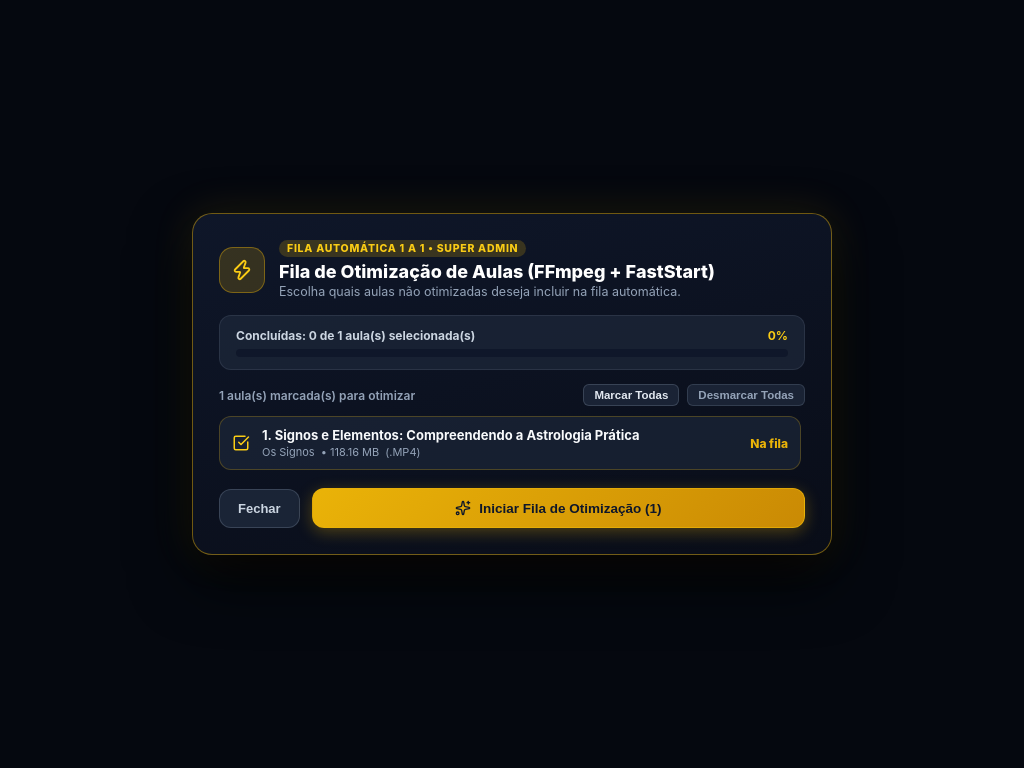
Test: SuperAdminVideoOptimizerBadge Component › executa fila sequencial no BatchVideoOptimizationModal aguardando conclusao real sem abortar precoce
Step 1. Click the button with test id "batch-video-opt-start-btn" → (558,508), box x1=312 y1=488 x2=805 y2=528
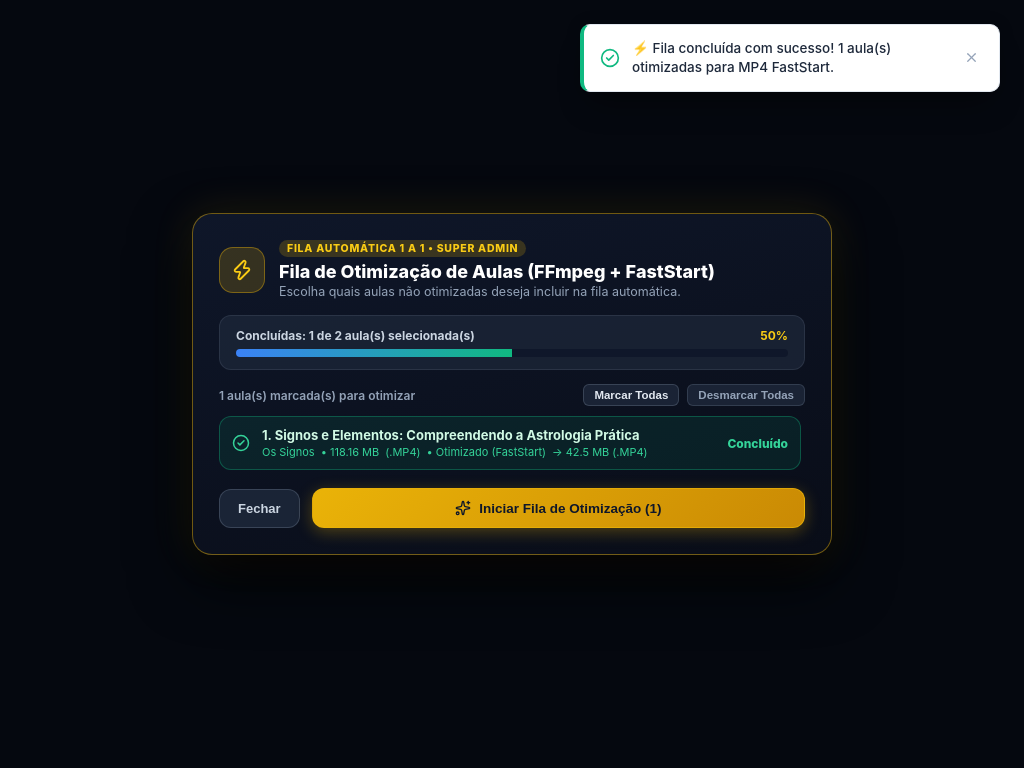
Expected: the element with test id "batch-opt-item-501" shows "Concluído", x1=727 y1=436 x2=788 y2=450
Expected: the element with test id "batch-opt-item-501" shows "42.5 MB (.MP4)", x1=219 y1=416 x2=801 y2=470
